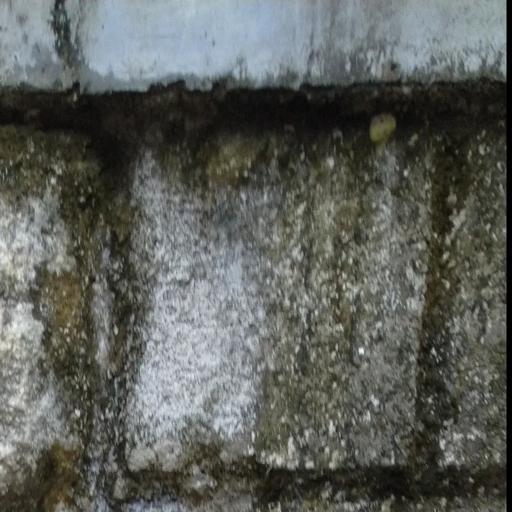algae: (27, 70, 512, 512)
